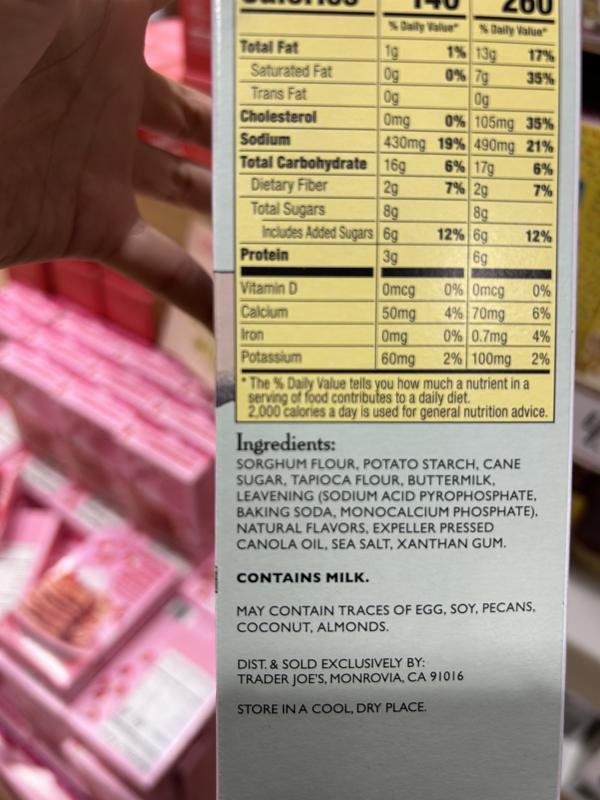ingredients: (232, 427, 542, 552)
